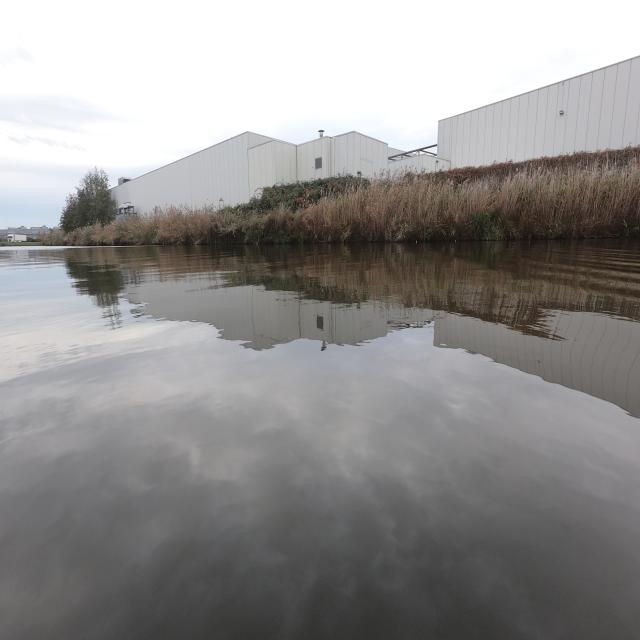reed: (45, 146, 640, 245)
sky: (1, 0, 637, 195)
tree: (60, 167, 116, 232)
water: (1, 234, 638, 639)
